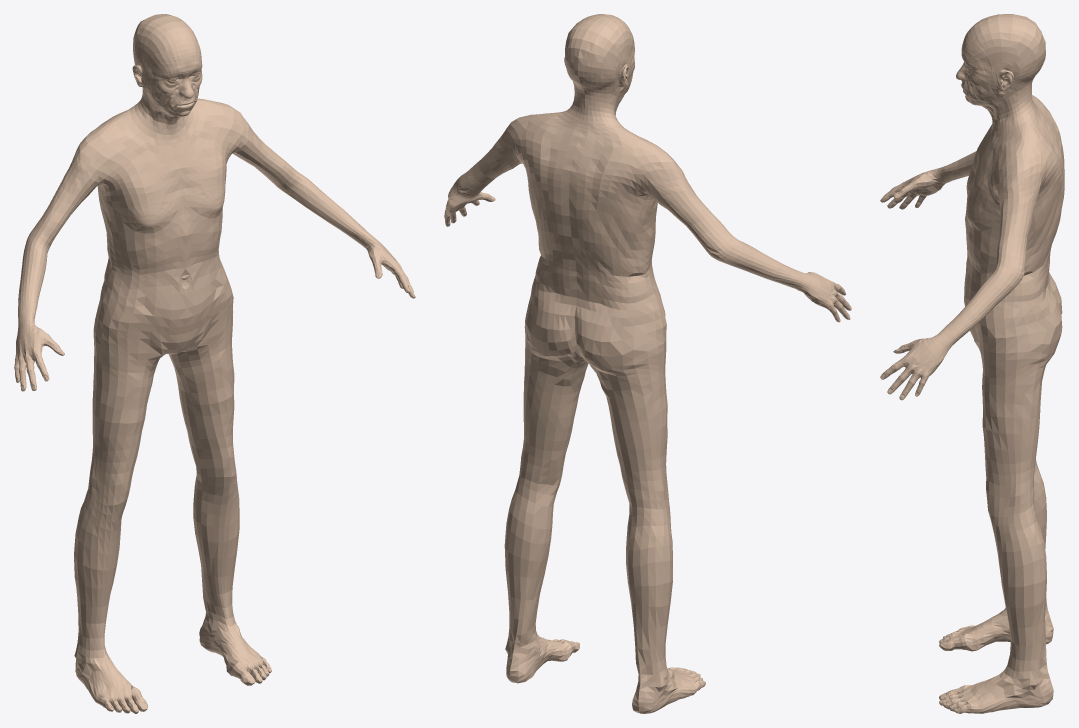
Rendered from male-elder-fit-low.glb.
The picture shows the model from 3 angles, left to right: view 1: azimuth 30°, elevation 25°; view 2: azimuth 150°, elevation 25°; view 3: azimuth 270°, elevation 25°; orthographic projection.
Visible parts, largest first — view 1: world; view 2: world; view 3: world.
Boxes of the visible parts, x1=… form: world: x1=14, y1=14, x2=415, y2=713; world: x1=444, y1=14, x2=851, y2=713; world: x1=880, y1=14, x2=1064, y2=713.
Size of the model in its own units: 1.2 by 1.92 by 0.4877.
